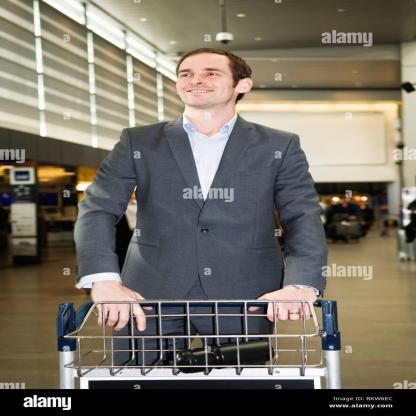airport-trolley: (35, 294, 346, 390)
